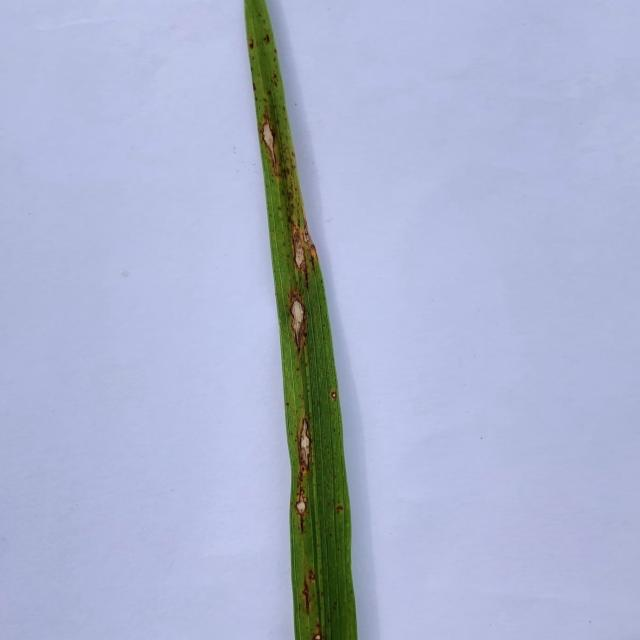leaf blast: (287, 293, 309, 353), (292, 220, 316, 272), (262, 112, 278, 174), (296, 417, 310, 474), (294, 486, 309, 534), (312, 632, 322, 640)
